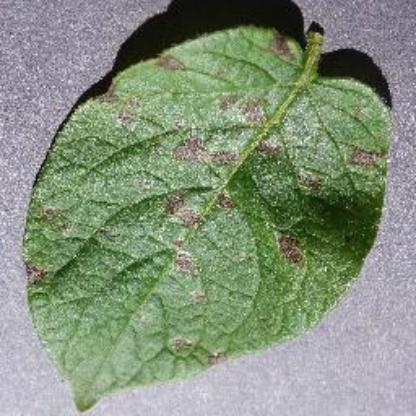Early-Blight: (27, 2, 401, 416)
